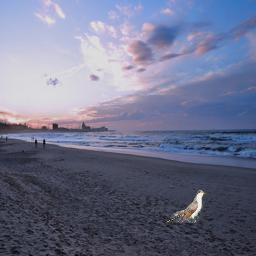Cuckoo: (166, 190, 206, 223)
